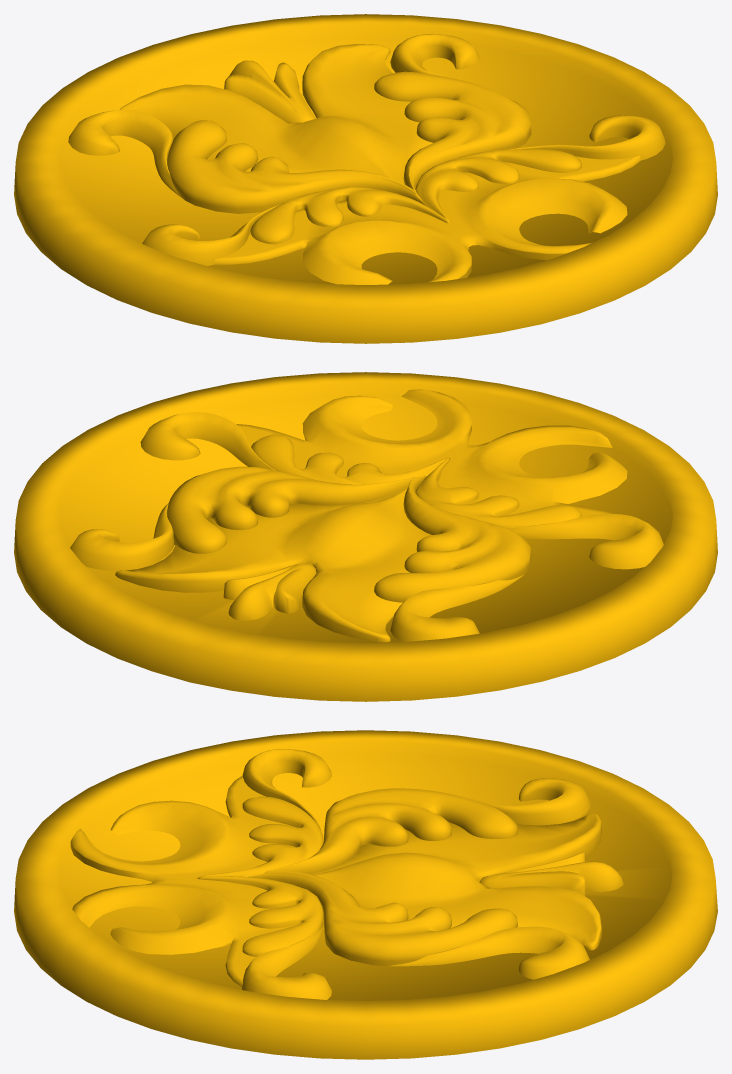
Rendered from moneta_lp_bump.glb.
The picture shows the model from 3 angles, top to bottom: view 1: azimuth 30°, elevation 25°; view 2: azimuth 150°, elevation 25°; view 3: azimuth 270°, elevation 25°; orthographic projection.
Parts seen in each view (by area): view 1: LP_3D model rosette_3DecArt_Rz_001_default_0; view 2: LP_3D model rosette_3DecArt_Rz_001_default_0; view 3: LP_3D model rosette_3DecArt_Rz_001_default_0.
Boxes of the visible parts, <box> form: LP_3D model rosette_3DecArt_Rz_001_default_0: <box>14,14,717,343</box>; LP_3D model rosette_3DecArt_Rz_001_default_0: <box>14,372,717,701</box>; LP_3D model rosette_3DecArt_Rz_001_default_0: <box>14,730,717,1059</box>.
Size of the model in its own units: 111 by 9.4 by 111.
